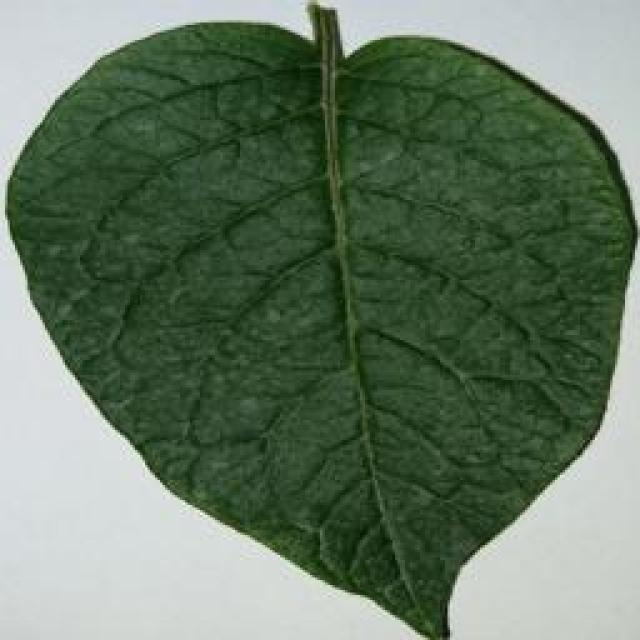Potato_Healthy: (8, 13, 640, 638)
